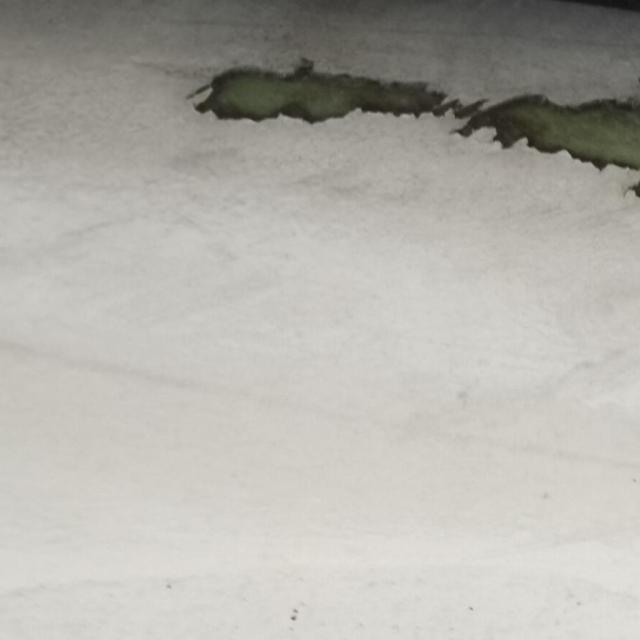surface_peeling: (193, 56, 636, 185)
